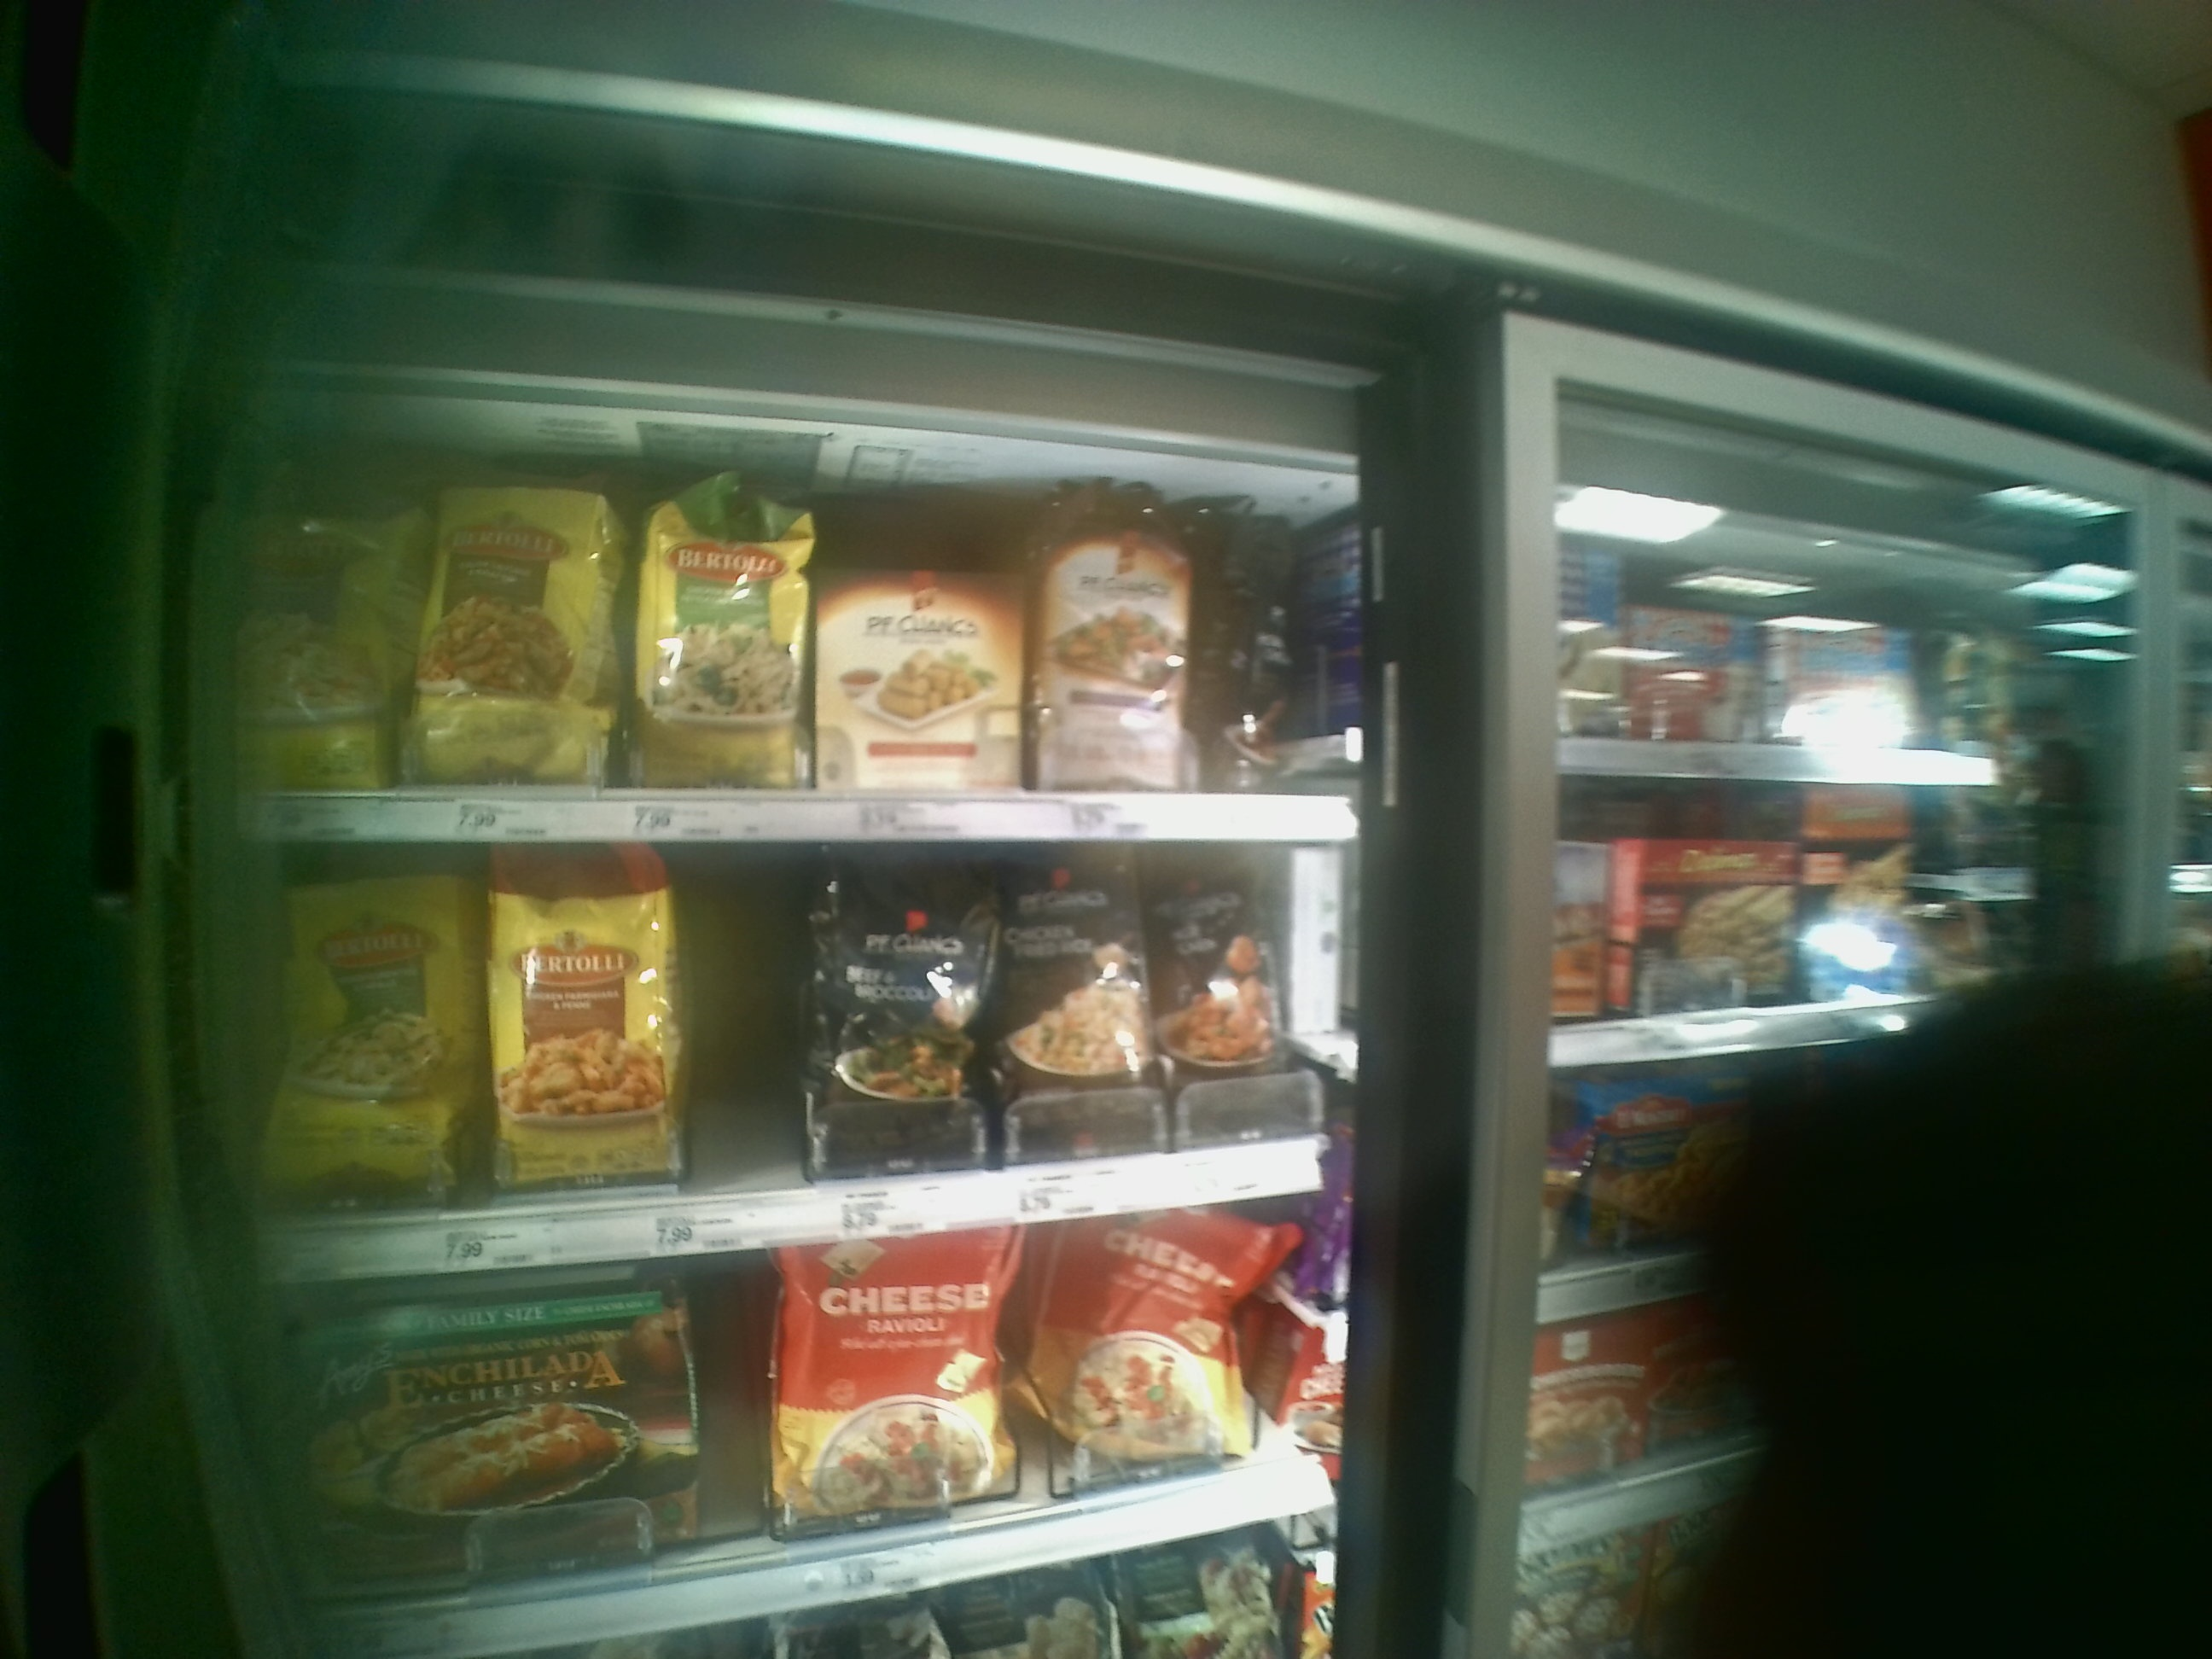shelf: (246, 863, 1320, 1267), (225, 474, 1355, 842), (300, 1297, 1327, 1631)
